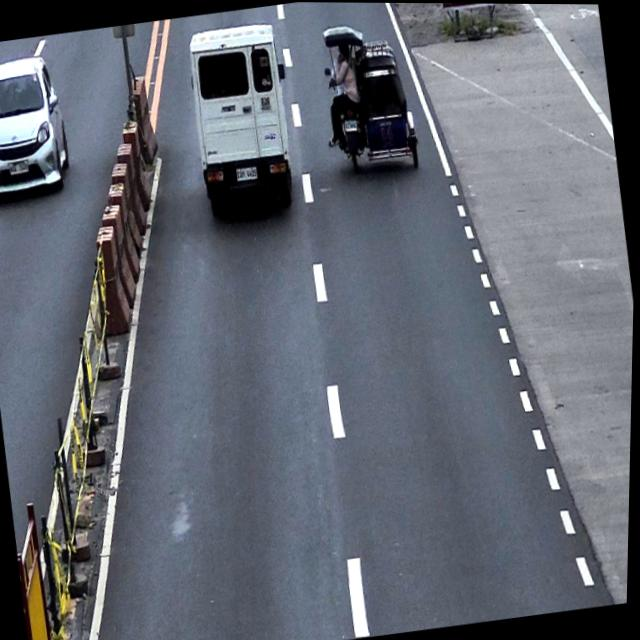Car: (182, 19, 304, 216), (0, 48, 76, 203)
License-Plate: (237, 164, 260, 183), (8, 159, 32, 176), (344, 118, 359, 133)
Tricycle: (312, 14, 427, 181)
